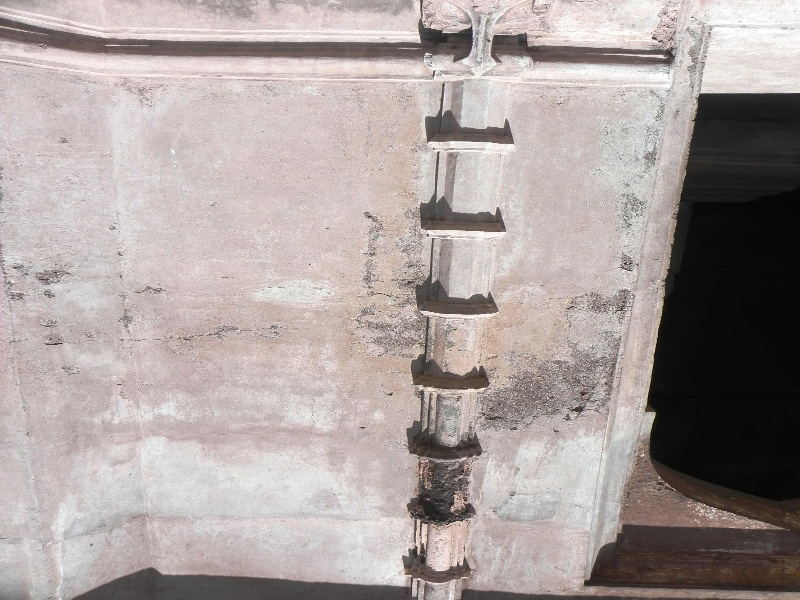Spalling: (488, 340, 620, 433), (407, 444, 474, 530)
